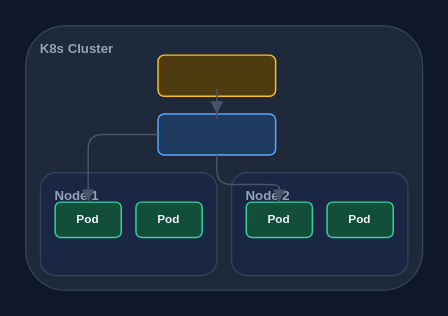
Some shapes in this 448 by 316 pixel diagram are drawn without their labels. Each missing label, with the centre of its shape:
"Ingress" goes at pixel 216 75.
"Svc" goes at pixel 216 133.
